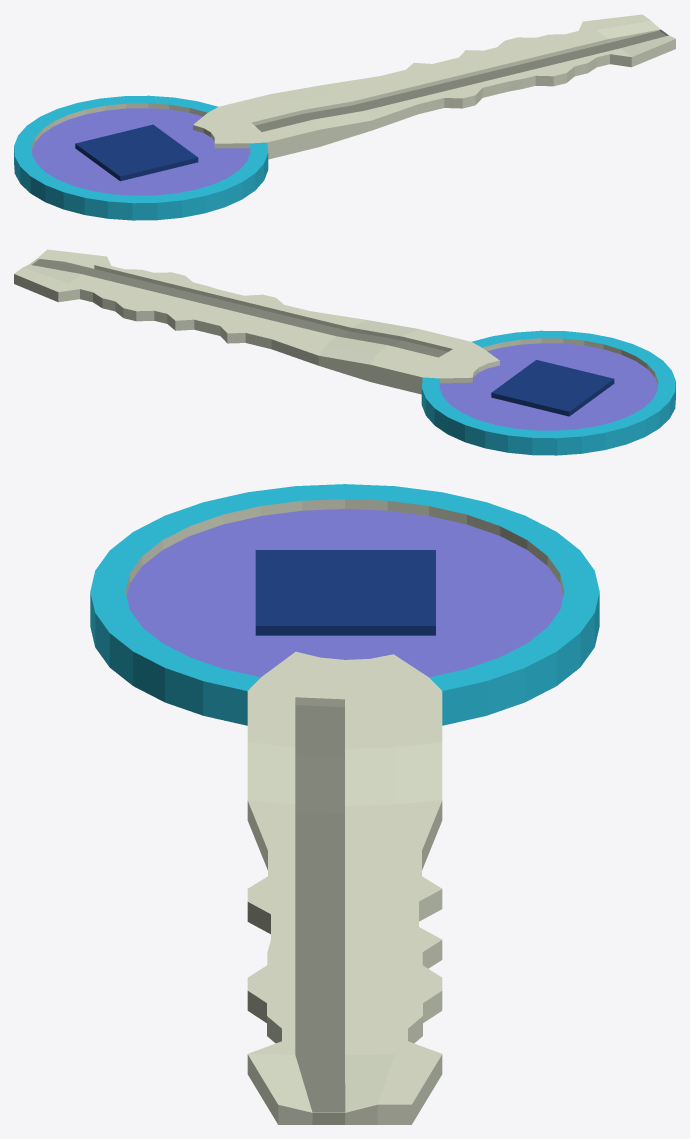
Rendered from Key-Rect.fbx.
3 views of the same model, one above another, from view 1: azimuth 30°, elevation 25°; view 2: azimuth 150°, elevation 25°; view 3: azimuth 270°, elevation 25° (orthographic). The views are drawn at different scales.
Visible parts, largest first — view 1: 柱体.001, 立方体; view 2: 柱体.001, 立方体; view 3: 柱体.001, 立方体.
Boxes of the visible parts, left/top/right/bottom form: 柱体.001: left=14, top=14, right=675, bottom=220; 立方体: left=75, top=124, right=198, bottom=181; 柱体.001: left=14, top=249, right=675, bottom=455; 立方体: left=491, top=360, right=614, bottom=416; 柱体.001: left=90, top=484, right=599, bottom=1124; 立方体: left=255, top=550, right=435, bottom=635.
Size of the model in its own units: 571 by 15 by 200.
